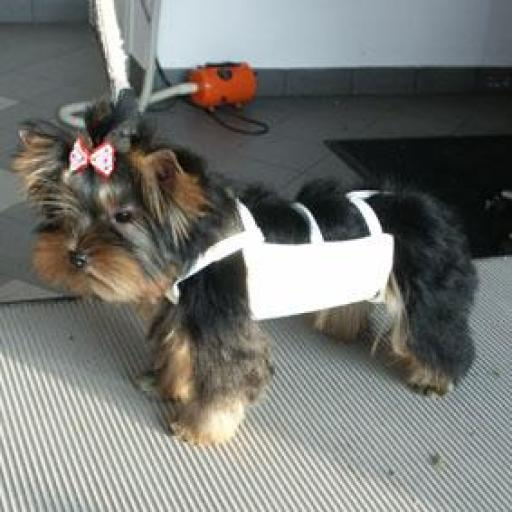dog_face: (9, 115, 185, 299)
